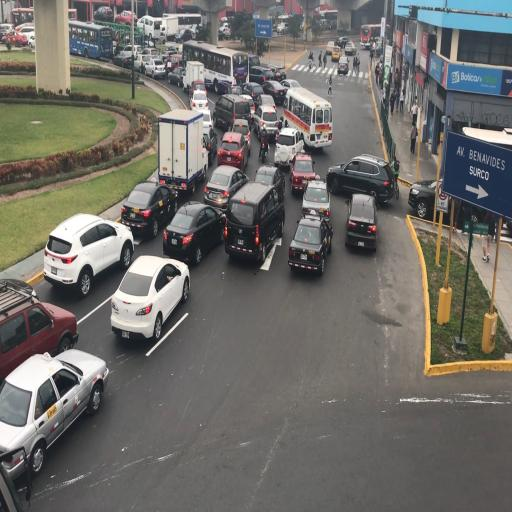auto: (2, 346, 109, 482), (1, 277, 76, 397), (44, 209, 132, 292), (110, 254, 188, 340), (226, 176, 284, 263), (164, 200, 226, 266), (327, 153, 392, 206), (121, 177, 179, 236), (288, 213, 332, 275), (205, 163, 248, 212), (42, 234, 79, 287), (344, 192, 377, 251), (408, 177, 450, 221), (213, 92, 252, 134), (253, 163, 286, 206), (216, 130, 250, 171), (289, 151, 318, 195), (301, 178, 330, 222), (274, 129, 303, 170), (253, 105, 277, 143), (261, 78, 288, 106), (248, 65, 279, 88), (116, 43, 142, 67), (253, 92, 275, 120), (144, 56, 166, 80), (166, 52, 184, 78), (2, 30, 28, 48), (15, 22, 36, 44), (190, 89, 208, 113), (278, 78, 302, 96), (134, 51, 153, 73), (114, 9, 137, 27), (93, 5, 113, 22), (163, 45, 180, 63), (337, 55, 348, 74), (336, 35, 349, 49), (344, 41, 356, 56), (325, 40, 336, 56), (277, 22, 290, 35), (331, 46, 341, 62), (0, 22, 14, 33), (223, 25, 232, 40), (360, 38, 369, 49)
bus: (283, 85, 332, 150), (182, 40, 240, 94), (68, 20, 112, 61), (164, 12, 202, 41), (140, 14, 166, 42), (361, 23, 383, 47), (12, 7, 34, 29), (68, 8, 78, 21)
camion: (156, 108, 206, 198), (184, 60, 206, 96)
moto: (260, 123, 267, 157), (305, 50, 312, 69)
